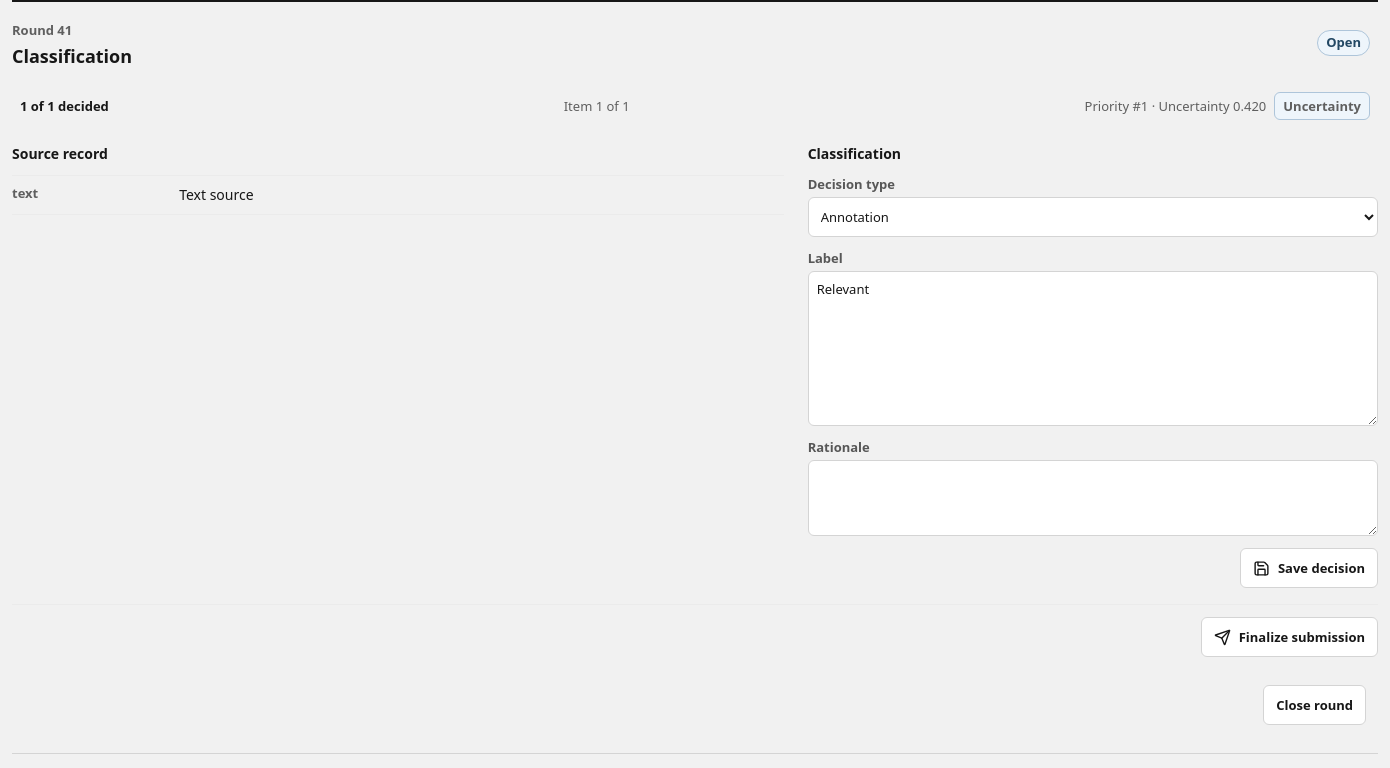
Test: RoundWorkbench › round-trips plain classification text and retains save confirmation
Check: the text box showing "Relevant" is shown, box [808, 271, 1378, 426]
Click the button "Save decision" at (1309, 568), box [1240, 548, 1378, 588]
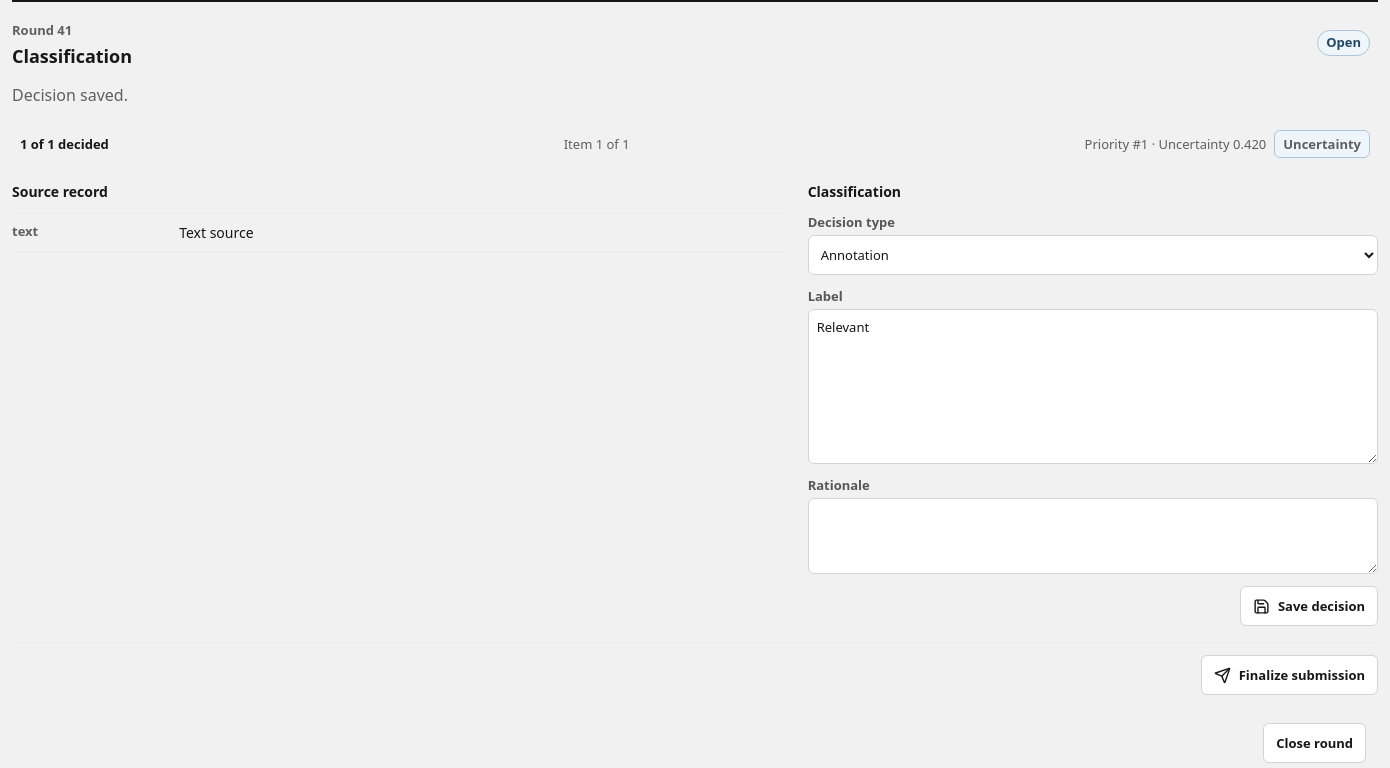
Check: the text "Decision saved." is shown, box [12, 84, 128, 106]
